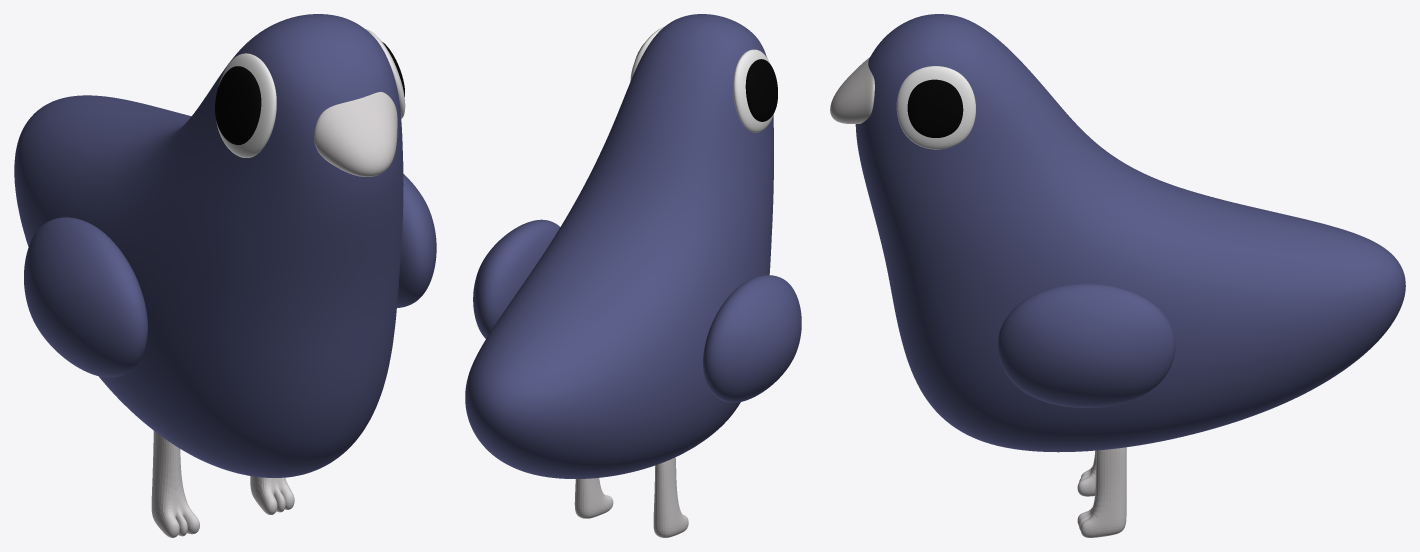
File: pigion.fbx
The picture shows the model from 3 angles, left to right: view 1: azimuth 30°, elevation 25°; view 2: azimuth 150°, elevation 25°; view 3: azimuth 270°, elevation 25°; orthographic projection. The views are drawn at different scales.
Visible parts, largest first — view 1: Body, WingRight, Mouth, WingLeft, LegRight, EyeRightIris, EyeRight, LegLeft; view 2: Body, WingRight, WingLeft, LegRight, EyeRightIris, EyeRight, LegLeft; view 3: Body, WingLeft, LegLeft, EyeLeft, EyeLeftIris, Mouth.
Part boxes in pixels (left/top/right/bottom): Body: left=14, top=14, right=403, bottom=477; WingRight: left=24, top=217, right=147, bottom=377; Mouth: left=314, top=92, right=397, bottom=176; WingLeft: left=397, top=174, right=436, bottom=307; LegRight: left=151, top=431, right=199, bottom=537; EyeRightIris: left=215, top=66, right=261, bottom=144; EyeRight: left=216, top=53, right=276, bottom=157; LegLeft: left=250, top=476, right=294, bottom=514; Body: left=465, top=14, right=773, bottom=478; WingRight: left=703, top=275, right=801, bottom=402; WingLeft: left=473, top=219, right=560, bottom=338; LegRight: left=653, top=457, right=688, bottom=537; EyeRightIris: left=745, top=59, right=777, bottom=121; EyeRight: left=733, top=49, right=773, bottom=132; LegLeft: left=574, top=478, right=613, bottom=518; Body: left=855, top=14, right=1405, bottom=452; WingLeft: left=997, top=283, right=1175, bottom=407; LegLeft: left=1077, top=447, right=1126, bottom=537; EyeLeft: left=896, top=66, right=975, bottom=149; EyeLeftIris: left=907, top=79, right=963, bottom=137; Mouth: left=830, top=57, right=874, bottom=123.
Size of the model in its own units: 95.34 by 138 by 146.
